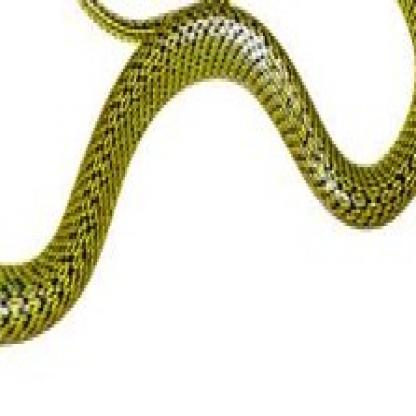snakes: (1, 0, 416, 358)
